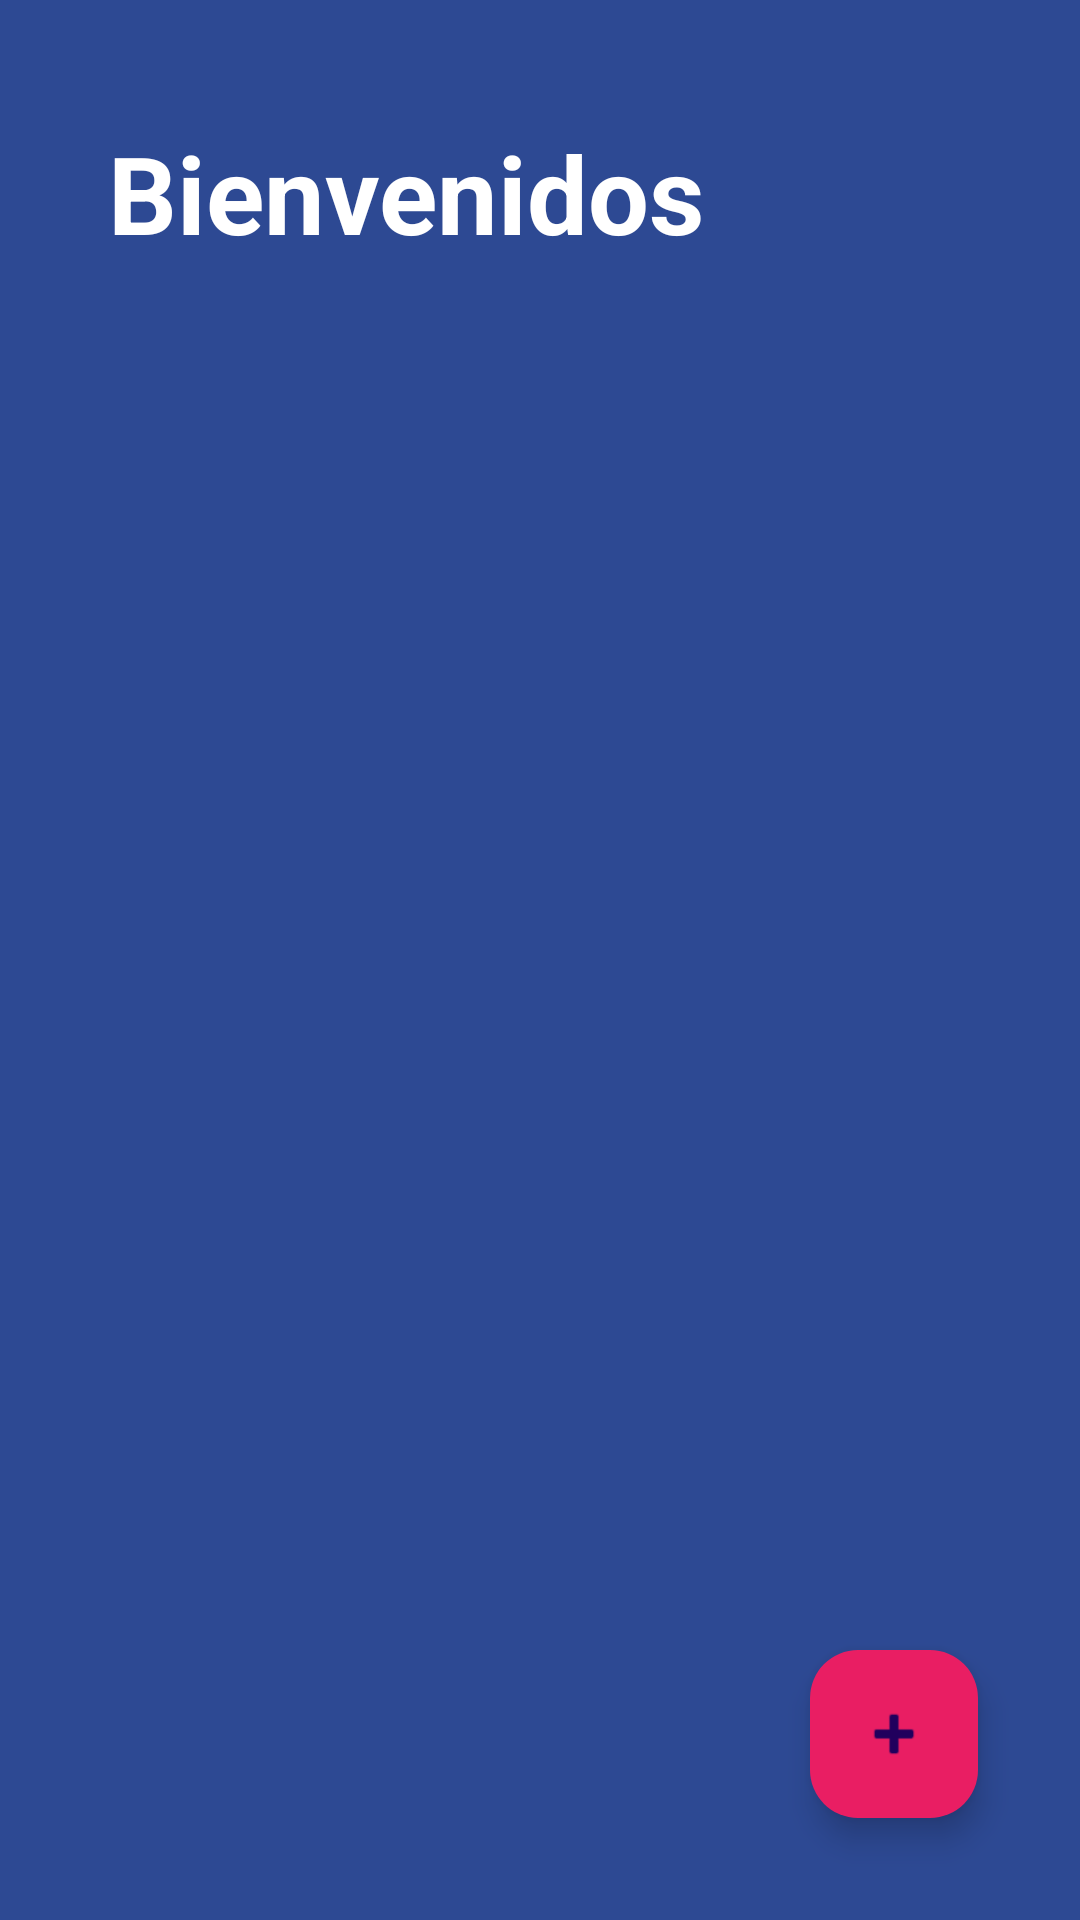

Screen size 1080px x 1920px. Icon name, then its box in pixels as (x1, y1, x2, y2):
Agrega tarea: (810, 1650, 978, 1818)
